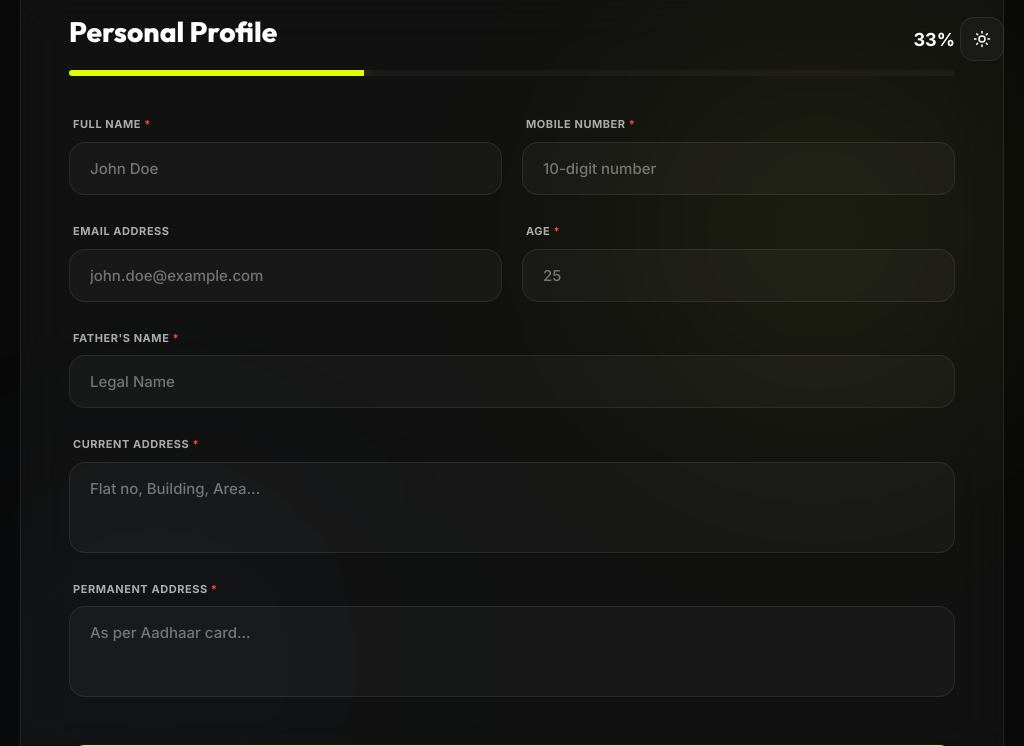
Test case: Crew application — input sanitization (bugs 5, 6, 7) › strips special characters from Father's Name
(page scrolled)
In the field with placeholder "Legal Name": coordinates (512, 382) [69,355,955,408], type "Ram@123 Kumar!"
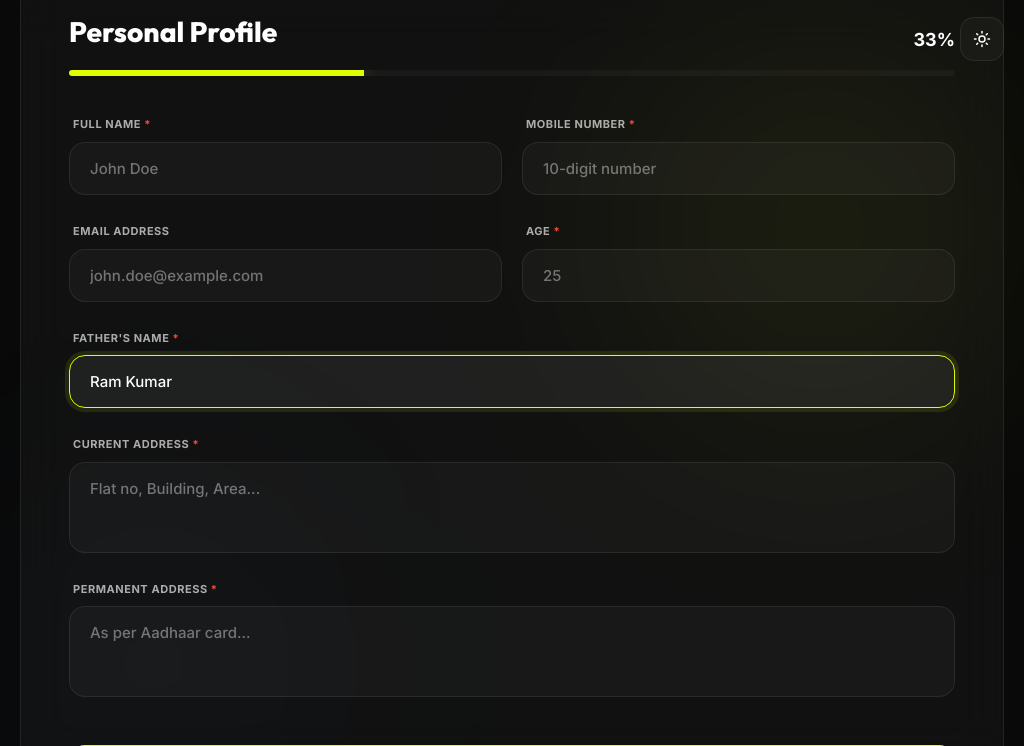
Result: the field with placeholder "Legal Name" holds "Ram Kumar" at [69,355,955,408]
